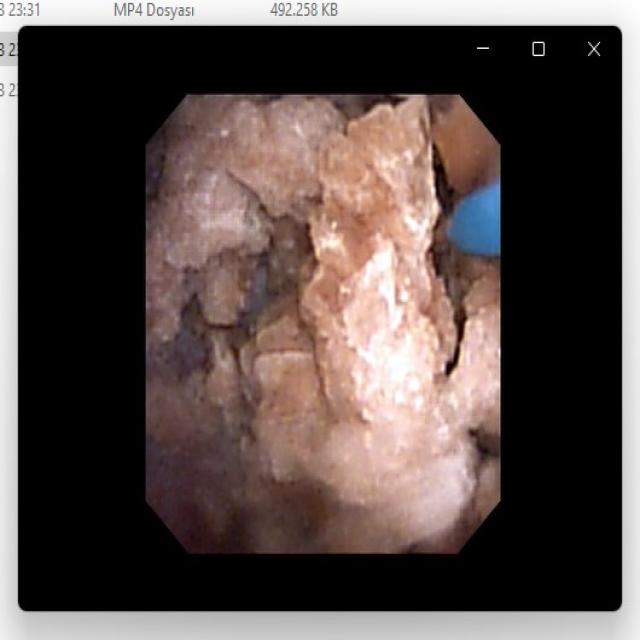fiber: (453, 192, 496, 247)
stone: (152, 100, 495, 543)
